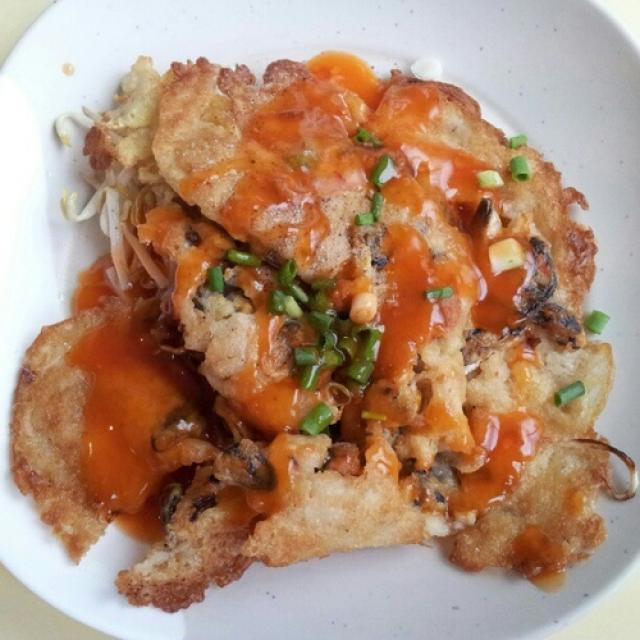炸货点心: (9, 15, 623, 621)
蛋糕甜品: (9, 15, 623, 621)
